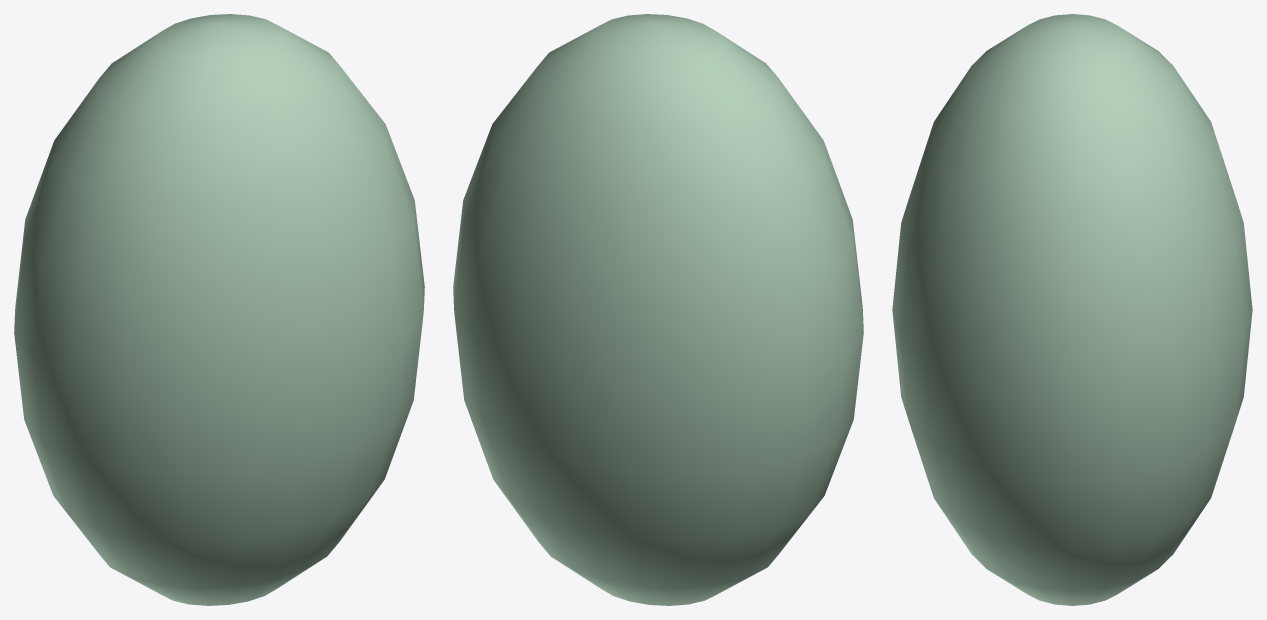
Rendered from baseline.glb.
3 views of the same model, side by side, from view 1: azimuth 30°, elevation 25°; view 2: azimuth 150°, elevation 25°; view 3: azimuth 270°, elevation 25° (orthographic).
Parts seen in each view (by area): view 1: body; view 2: body; view 3: body.
Boxes of the visible parts, box(x1,y1,x2,y2) form: body: box(14, 14, 424, 605); body: box(453, 14, 863, 605); body: box(892, 14, 1252, 605).
Bounding box in the file's own units: 0.13 × 0.19 × 0.11.
